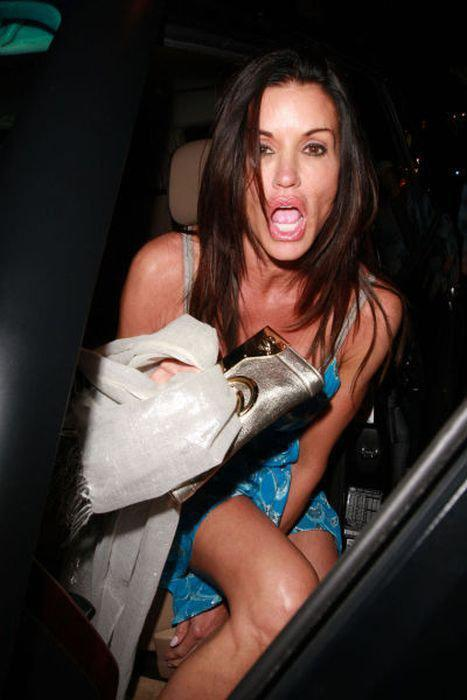Drunk: (236, 77, 340, 265)
